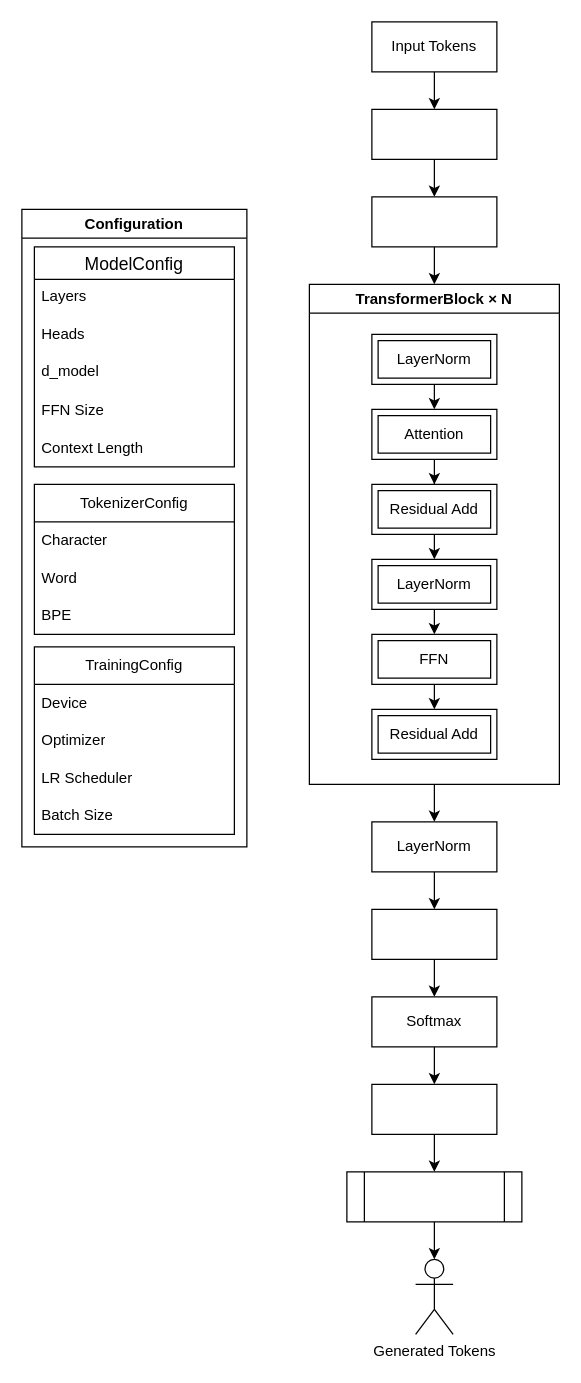
Image size: 581x1383. Some labels were removed from this diagram. The centre of each missing label's shape, as x and y in pixels:
"Embedding Layer" belongs at point 434,133.
"Linear" belongs at point 434,933.
"Positional Encoding" belongs at point 434,221.
"Sampling" belongs at point 434,1196.
"Token Probabilities" belongs at point 434,1108.
